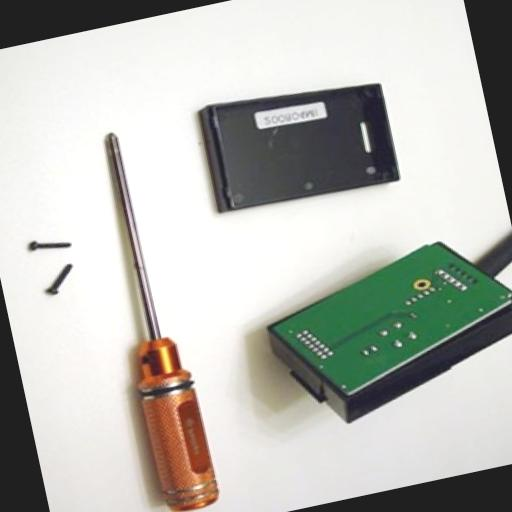screwdriver: (80, 125, 219, 512)
